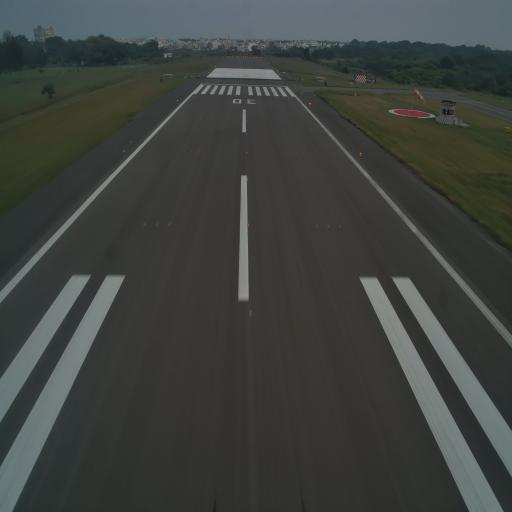off: (142, 219, 147, 229), (154, 220, 159, 228), (128, 138, 133, 146), (326, 222, 330, 231), (338, 222, 342, 230), (168, 220, 171, 230), (315, 221, 318, 230), (302, 151, 304, 156), (183, 150, 185, 154), (287, 151, 289, 155), (294, 152, 296, 156), (198, 150, 200, 153), (191, 150, 192, 153)
on: (246, 309, 253, 322), (246, 221, 251, 230), (359, 150, 363, 158), (246, 178, 249, 183), (245, 150, 248, 155)
